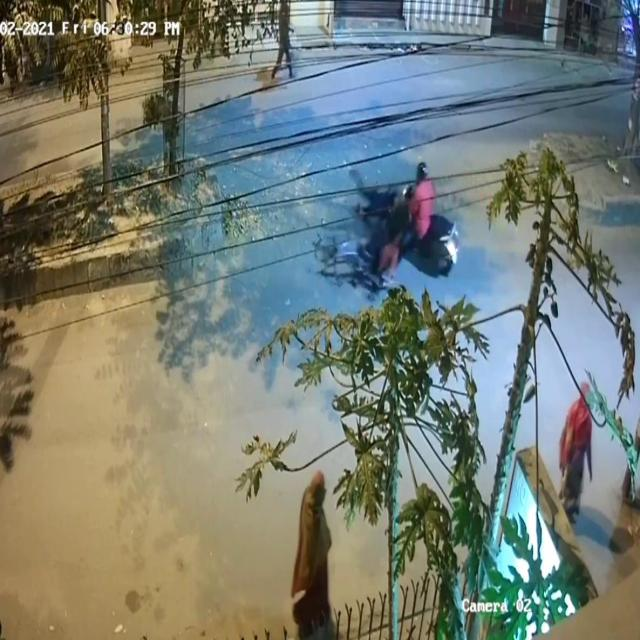accident: (310, 134, 462, 298)
